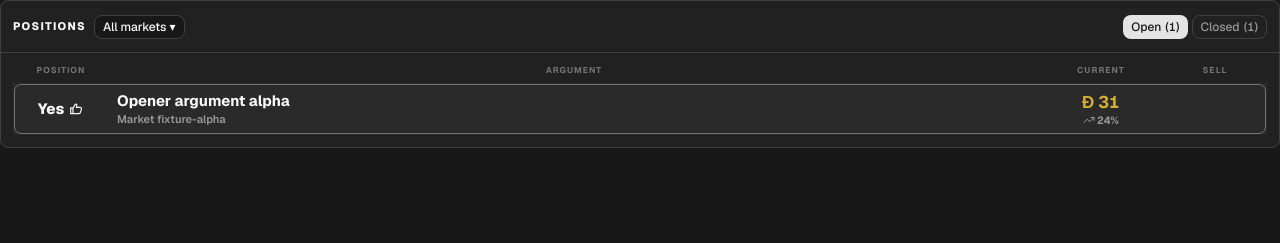
Test case: HTML-FINISH profile rows 2 · 7 — the arena panels and their bars › row7a::the-popover-still-DRIVES-the-market-filter
Click the button with test id "positions-market-filter". click: (139, 27)
box: [94,15,184,39]
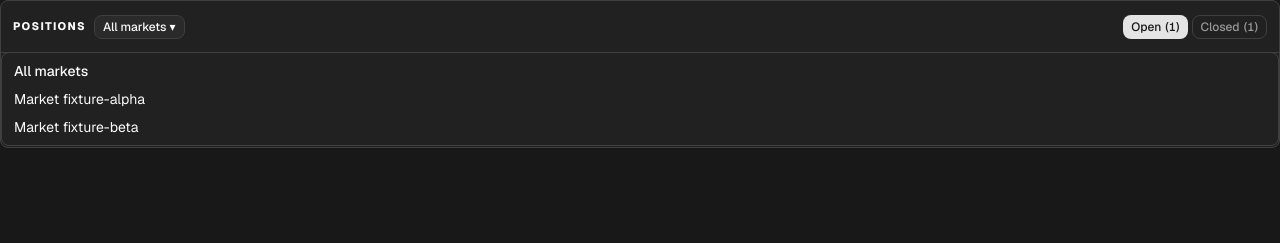
Click the option "Market fixture-beta". click: (76, 127)
box: [6,113,1274,141]
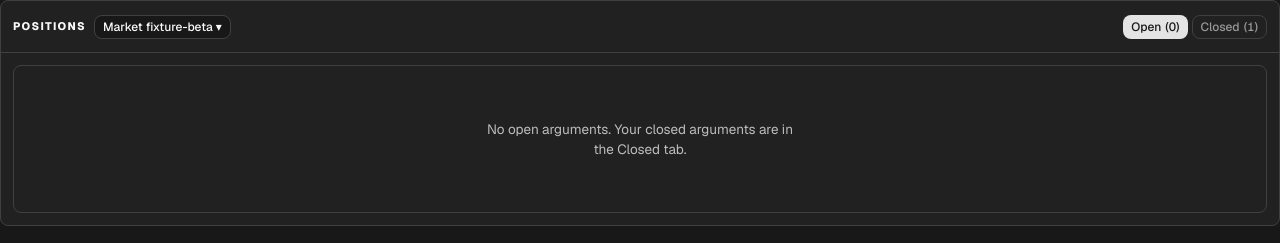
Expected: the heading with test id "positions-empty-tab" is shown, [480,119,800,159]
Expected: the list with test id "positions-market-popover" is gone
